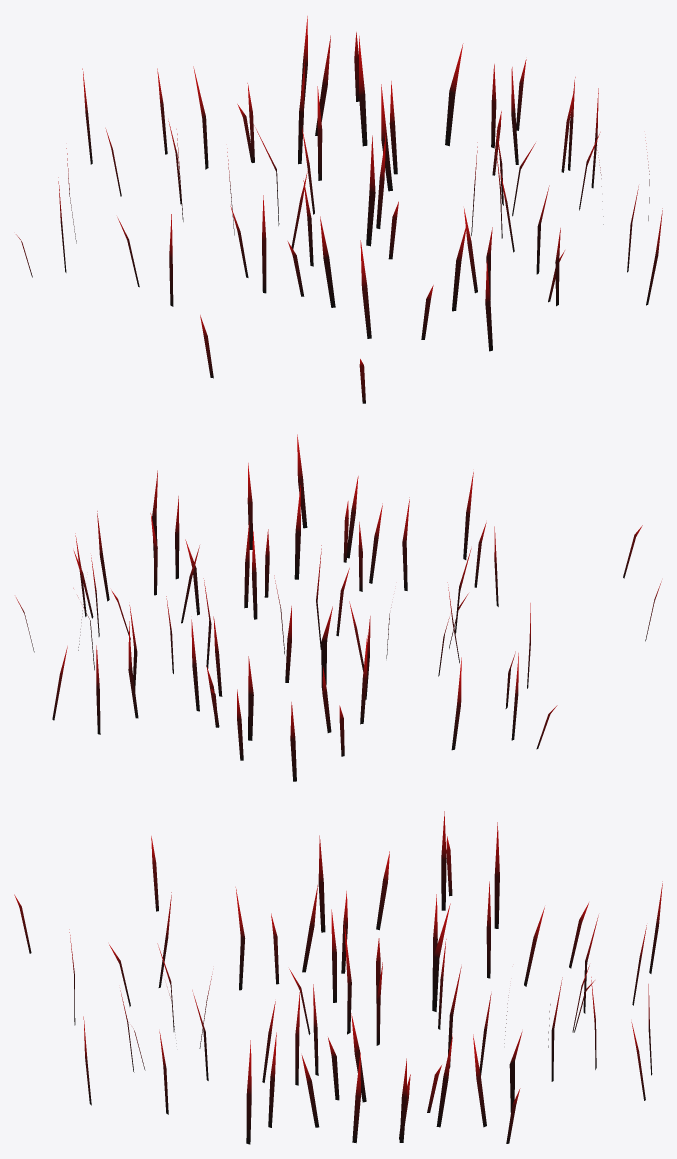
Rendered from PatchGrassTall05.fbx.
The picture shows the model from 3 angles, top to bottom: view 1: azimuth 30°, elevation 25°; view 2: azimuth 150°, elevation 25°; view 3: azimuth 270°, elevation 25°; orthographic projection. The views are drawn at different scales.
Parts seen in each view (by area): view 1: PatchGrassTall05_LOD0; view 2: PatchGrassTall05_LOD0; view 3: PatchGrassTall05_LOD0.
Boxes of the visible parts, x1,y1,x2,y2 form: PatchGrassTall05_LOD0: (16,16,662,403); PatchGrassTall05_LOD0: (16,434,661,781); PatchGrassTall05_LOD0: (14,811,662,1144).
Bounding box in the file's own units: 462 × 91.9 × 478.
